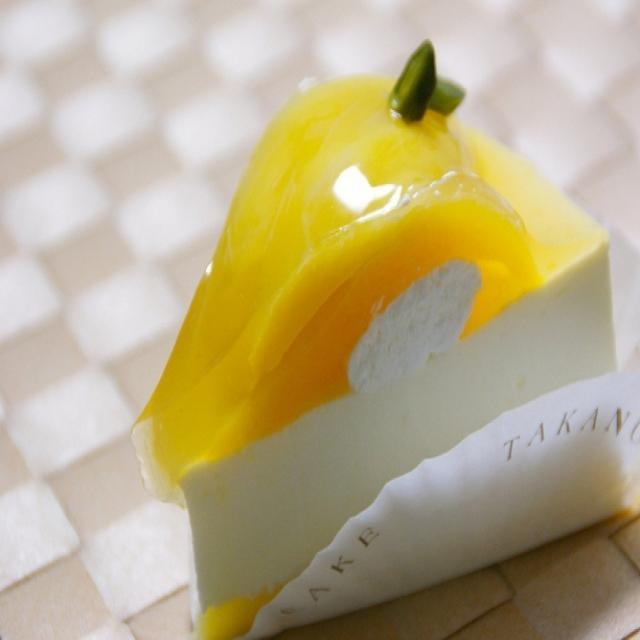Rare cheese cake: (133, 39, 639, 639)
